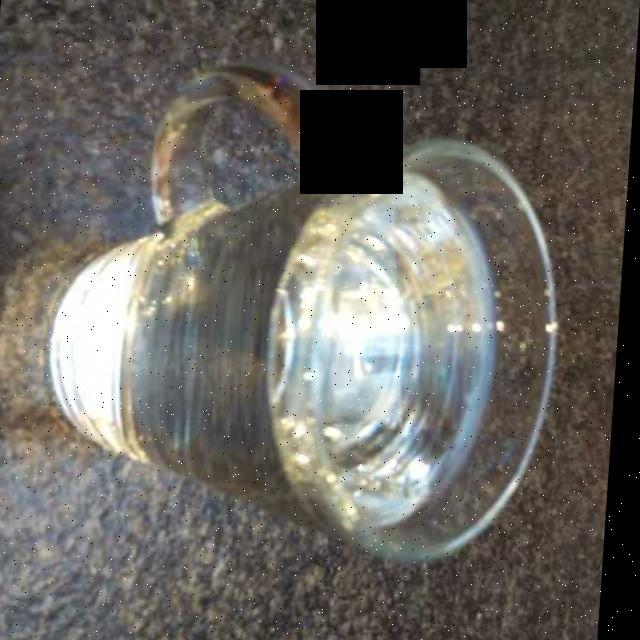water: (293, 171, 492, 520)
